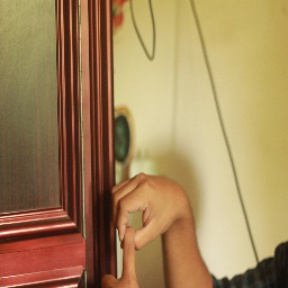Q: (97, 168, 193, 288)
